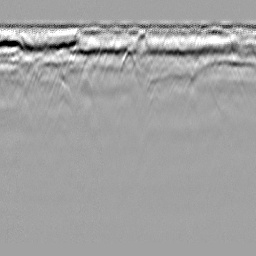cavity: (121, 45, 136, 71)
